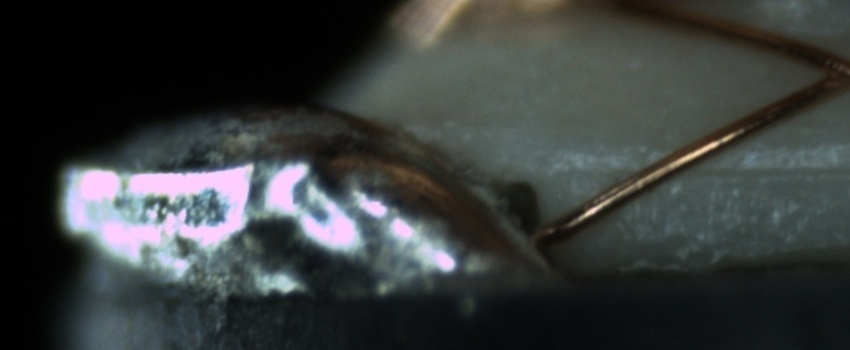CL: (799, 43, 850, 102)
DL: (574, 137, 846, 201)
